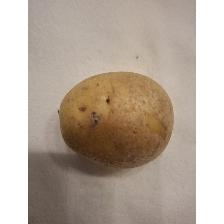Kartoffel: (57, 67, 176, 171)
